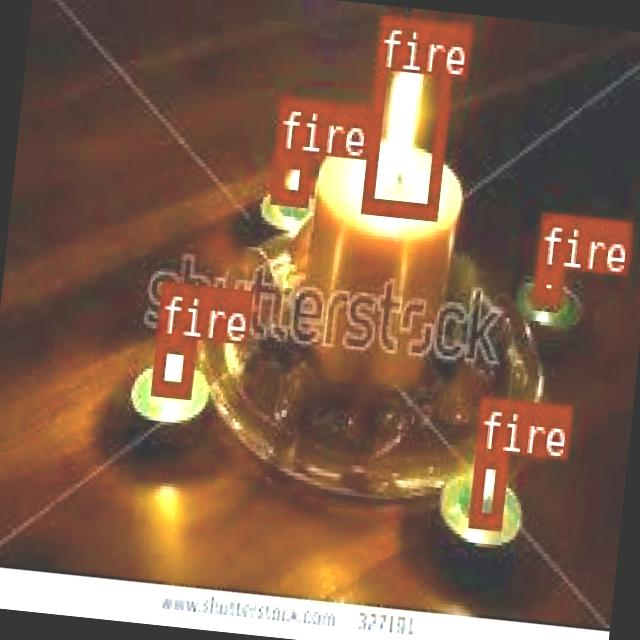fire: (359, 13, 454, 215), (465, 448, 507, 528), (150, 334, 195, 396), (269, 150, 310, 202), (530, 265, 562, 299)
